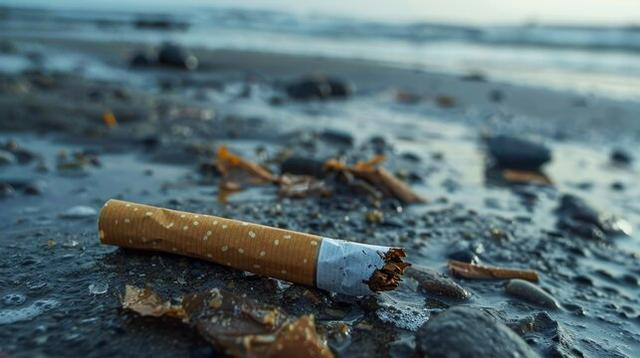Cigarette: (97, 197, 411, 300)
